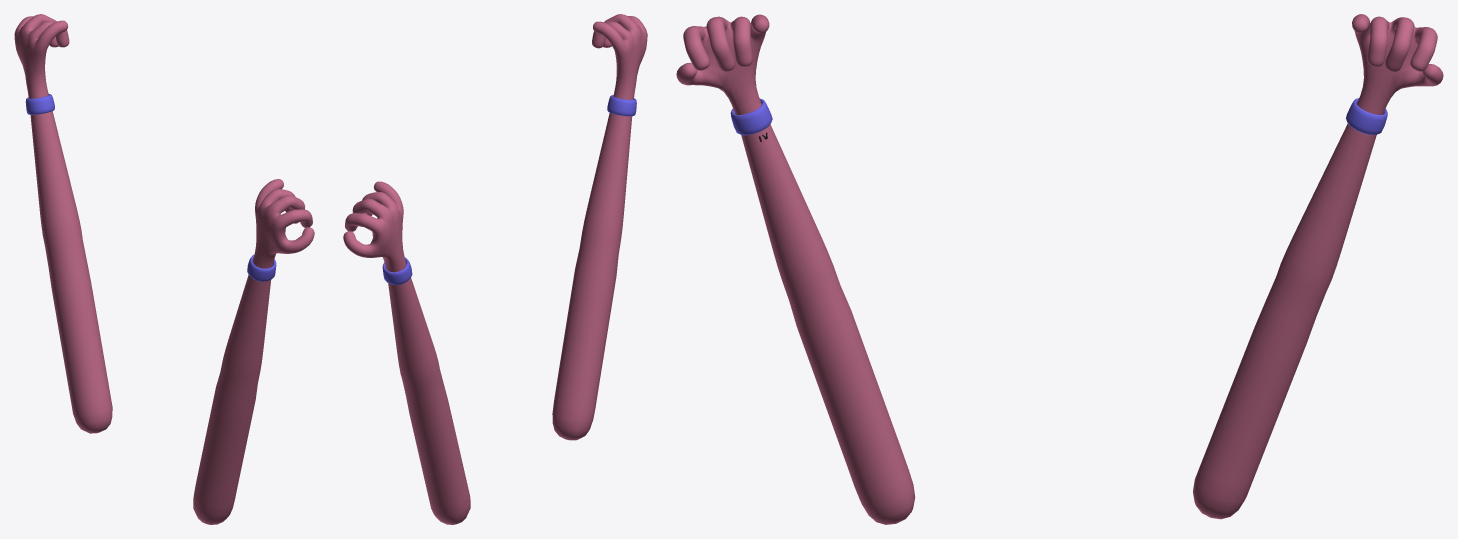
Rendered from Hands_v2.fbx.
The picture shows the model from 3 angles, left to right: view 1: azimuth 30°, elevation 25°; view 2: azimuth 150°, elevation 25°; view 3: azimuth 270°, elevation 25°; orthographic projection. The views are drawn at different scales.
Visible parts, largest first — view 1: hand_R, hand_L; view 2: hand_L, hand_R; view 3: hand_L, hand_R.
Boxes of the visible parts, left/top/right/bottom form: hand_R: left=14, top=14, right=112, bottom=433; hand_L: left=193, top=179, right=314, bottom=524; hand_L: left=552, top=14, right=647, bottom=440; hand_R: left=343, top=181, right=470, bottom=524; hand_L: left=676, top=14, right=915, bottom=524; hand_R: left=1193, top=14, right=1443, bottom=519.
Size of the model in its own units: 318 by 2262 by 3039.
